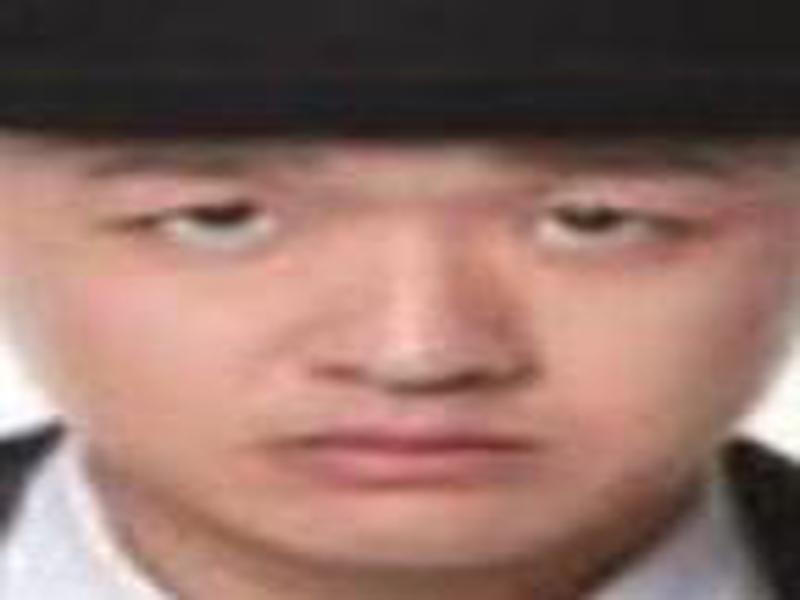without_mask: (1, 127, 789, 570)
